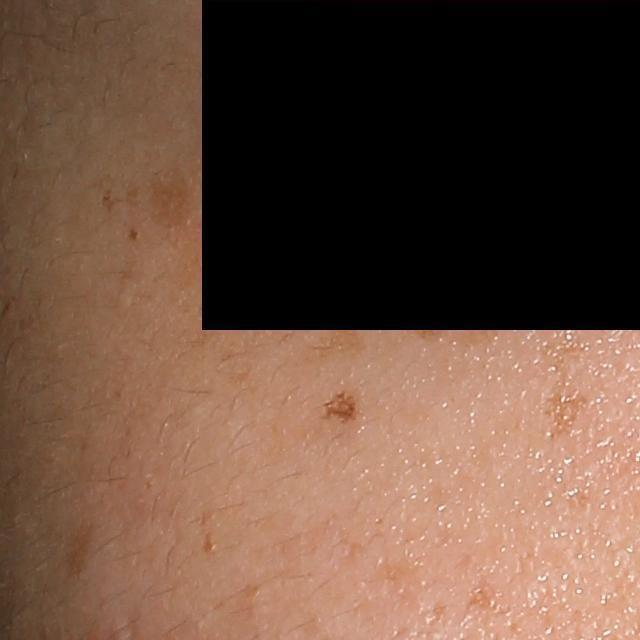melasma: (88, 161, 380, 400), (533, 334, 603, 450), (404, 299, 501, 349), (422, 574, 500, 634), (316, 387, 363, 425)
